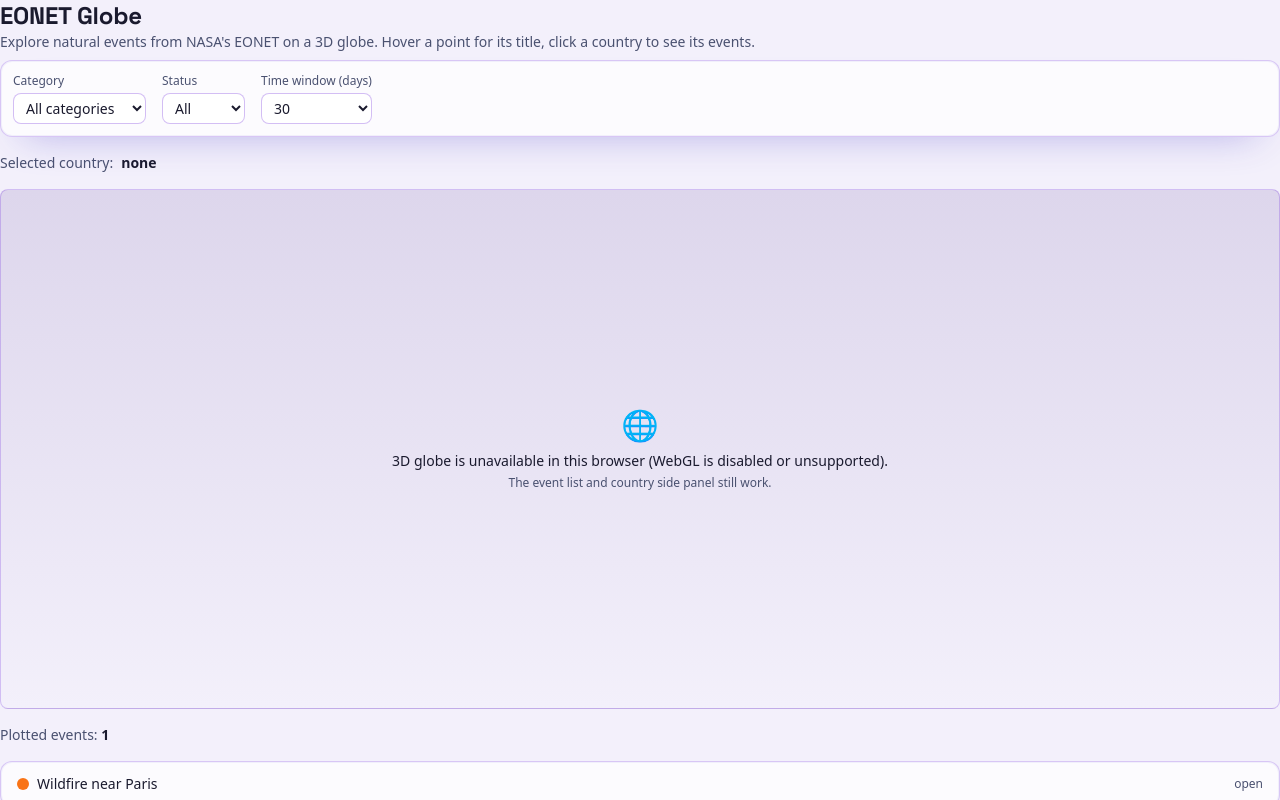
M11 country selection — event detail and external link › renders globe-event-link inert (no href) when the link is not https:// (misc-globe-polish)
The width and height of the screenshot is (1280, 800).
Click the list item with test id "globe-event-point" at [97, 784], box [9, 770, 1271, 798]
(page scrolled)
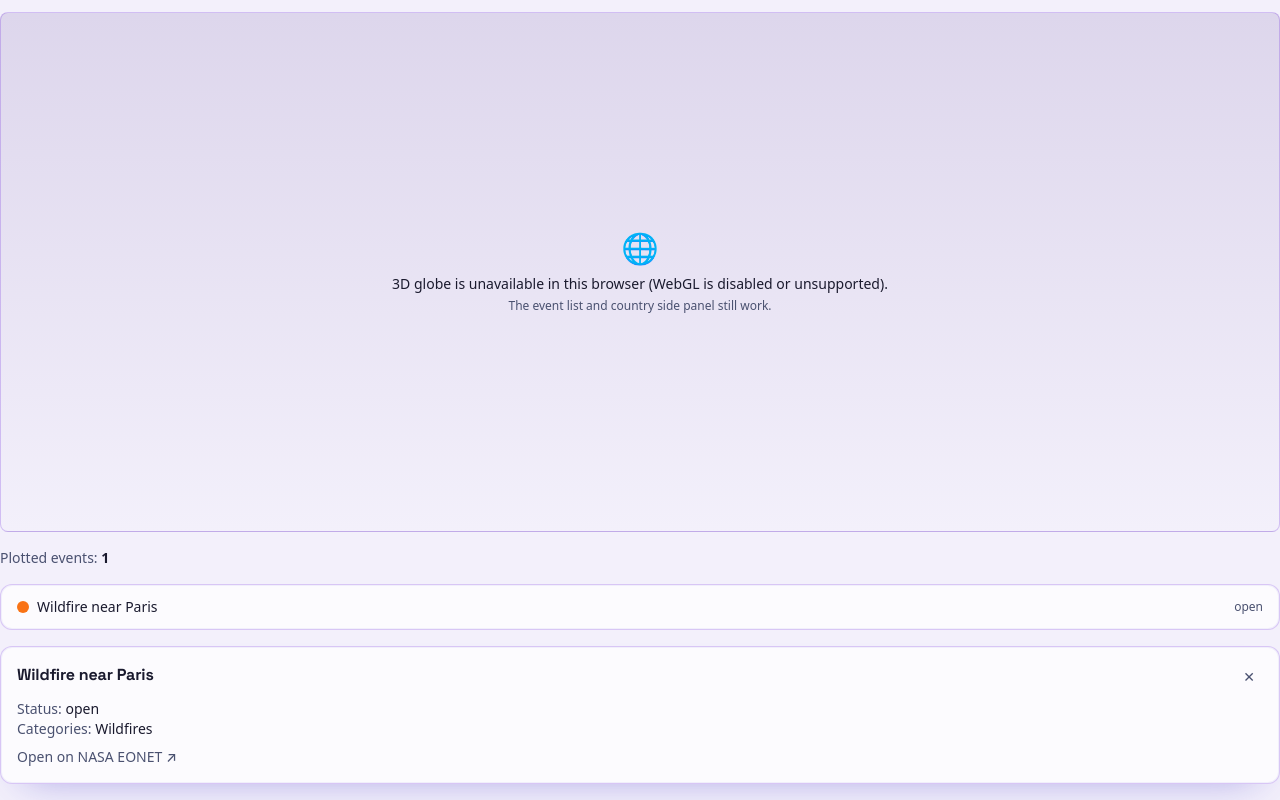
expect the dialog with test id "globe-event-detail" is shown: met, box [0, 646, 1279, 784]
